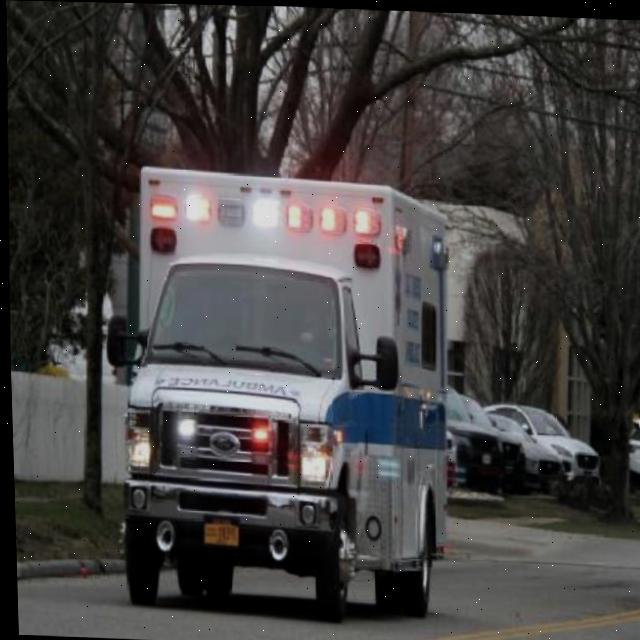emergency: (94, 162, 460, 624)
